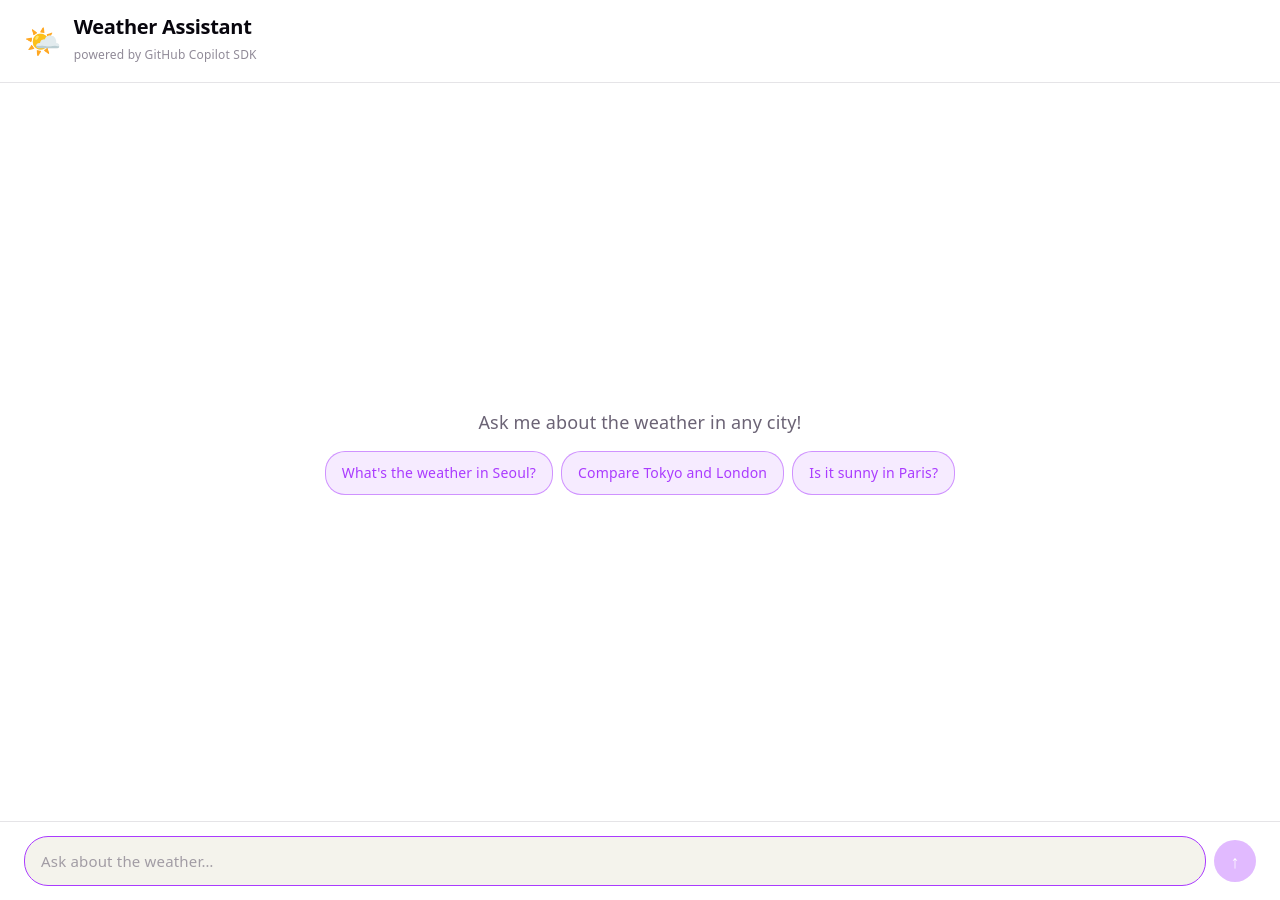
Test case: App: Weather Assistant UI › enables send button when user types in input
Type "Hello" into the field.
click(615, 861); type("Hello")  # box [24,836,1206,886]
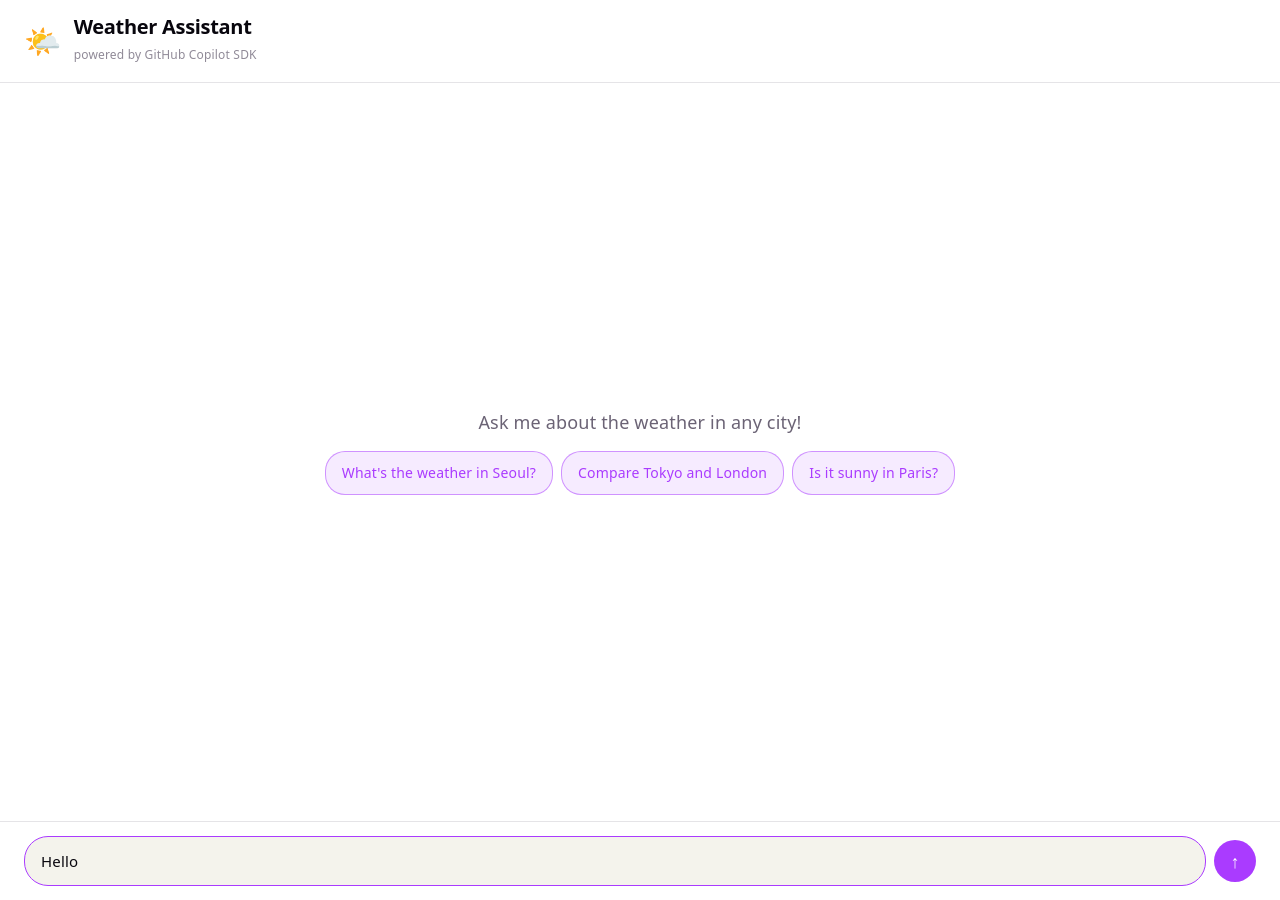
expect the button named "send" is enabled: met, box [1214,840,1256,882]
